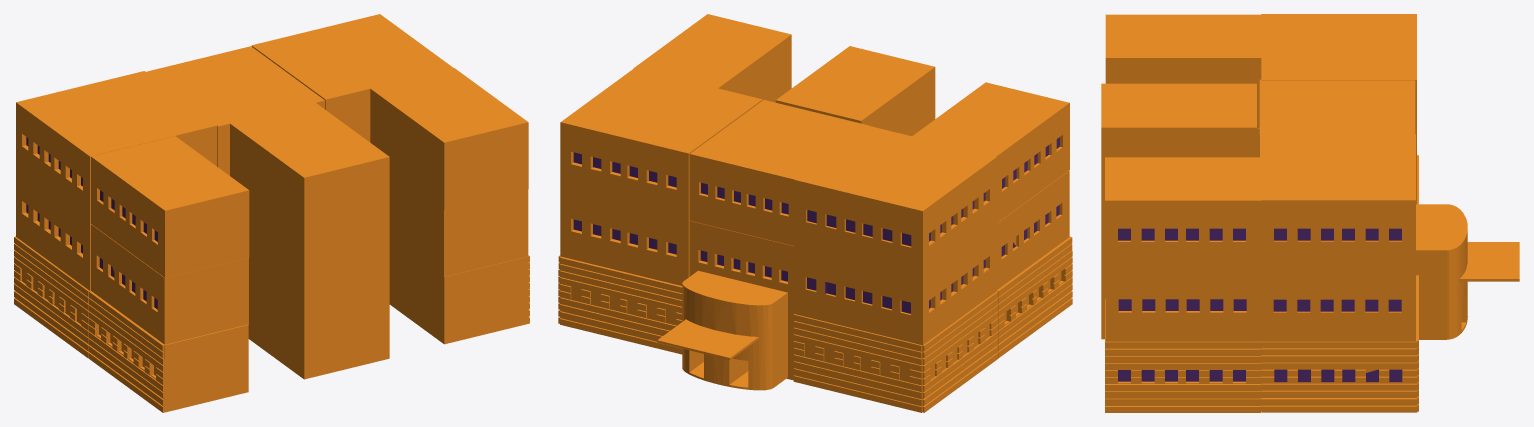
Rendered from Urząd miejski kilinskiego.fbx.
The picture shows the model from 3 angles, left to right: view 1: azimuth 30°, elevation 25°; view 2: azimuth 150°, elevation 25°; view 3: azimuth 270°, elevation 25°; orthographic projection. The views are drawn at different scales.
Visible parts, largest first — view 1: Urzad_miejski_kilinskiego; view 2: Urzad_miejski_kilinskiego; view 3: Urzad_miejski_kilinskiego.
Part boxes in pixels (x1,y1,x2,y2): Urzad_miejski_kilinskiego: [14, 14, 529, 412]; Urzad_miejski_kilinskiego: [558, 14, 1072, 412]; Urzad_miejski_kilinskiego: [1101, 14, 1519, 412].
Size of the model in its own units: 40.65 by 21.43 by 38.21.
Materials: 1 (1 with a texture image).
